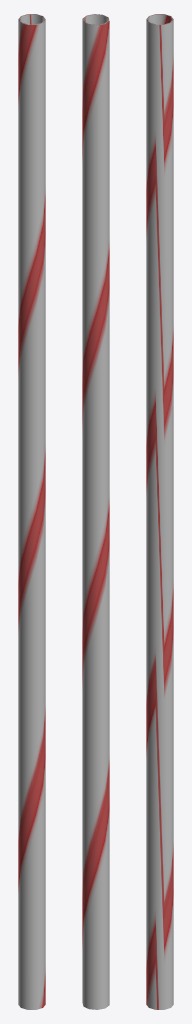
Rendered from Straw_MDL.fbx.
3 renders of one model, left to right at view 1: azimuth 90°, elevation 25°; view 2: azimuth 150°, elevation 25°; view 3: azimuth 270°, elevation 25°, orthographic.
Parts seen in each view (by area): view 1: straw; view 2: straw; view 3: straw.
Boxes of the visible parts, x1,y1,x2,y2 form: straw: (18, 14, 45, 1009); straw: (82, 14, 109, 1009); straw: (146, 14, 173, 1009).
Bounding box in the file's own units: 0.3007 × 12.43 × 0.3162.
